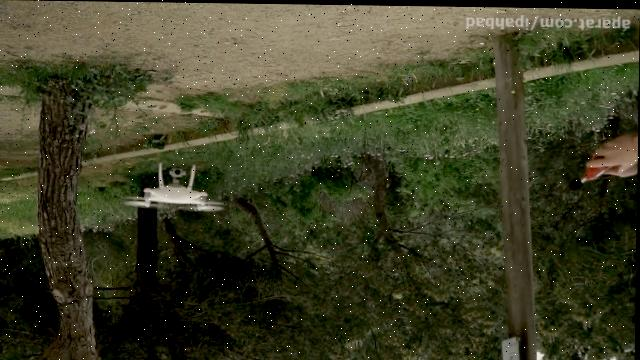drone: (122, 162, 226, 214)
